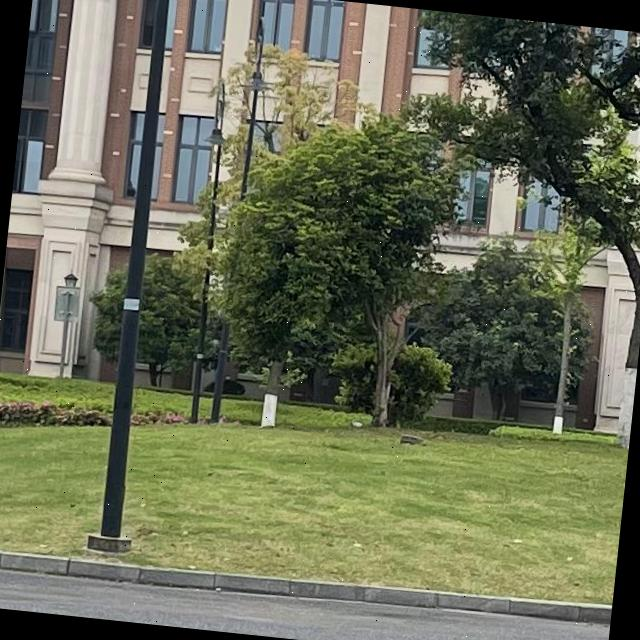curb: (0, 549, 611, 624)
